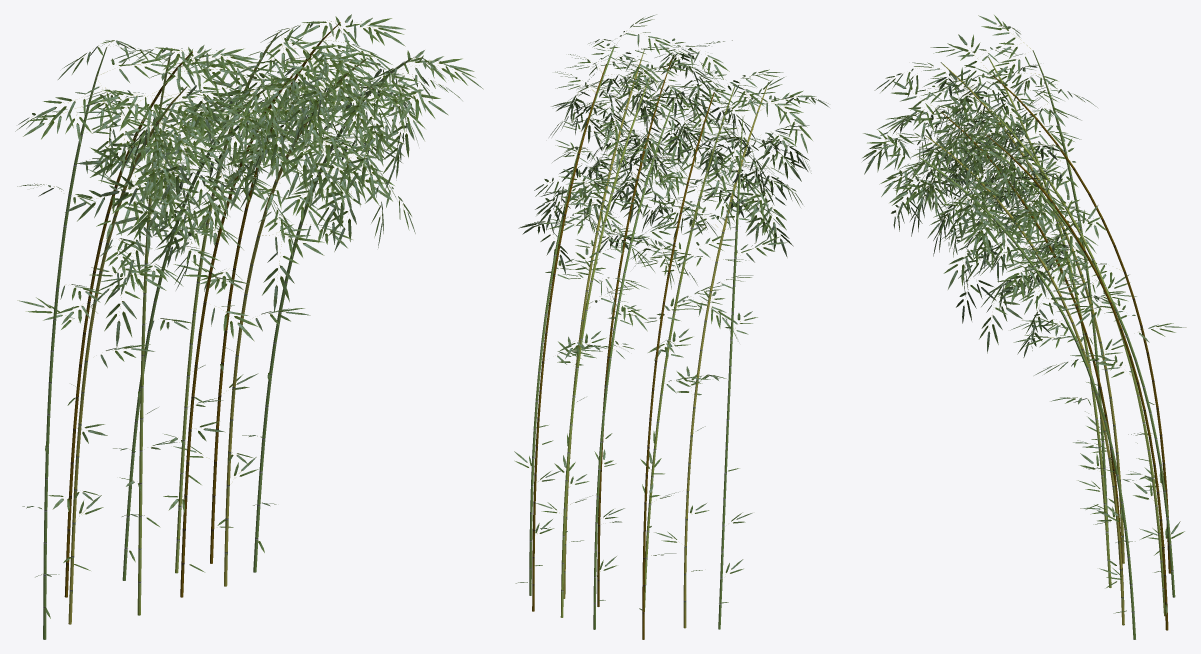
File: bamboo.glb
3 renders of one model, left to right at view 1: azimuth 30°, elevation 25°; view 2: azimuth 150°, elevation 25°; view 3: azimuth 270°, elevation 25°, orthographic. The views are drawn at different scales.
Parts seen in each view (by area): view 1: Object_2, Object_4, Object_3; view 2: Object_2, Object_4, Object_3; view 3: Object_2, Object_4, Object_3.
Boxes of the visible parts, box(x1,y1,x2,y2) form: Object_2: box(15, 14, 462, 618); Object_4: box(43, 22, 411, 639); Object_3: box(41, 41, 483, 574); Object_2: box(514, 38, 829, 610); Object_4: box(529, 45, 768, 639); Object_3: box(533, 14, 801, 565); Object_2: box(862, 15, 1186, 614); Object_4: box(919, 50, 1175, 639); Object_3: box(863, 28, 1126, 613).
Size of the model in its own units: 300 by 500 by 278.
2 materials, 2 textured.
